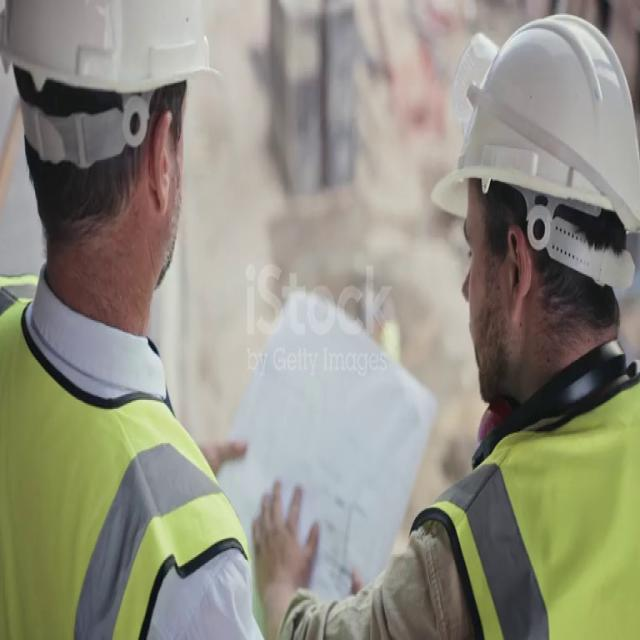capacete: (407, 16, 640, 272), (0, 0, 232, 147)
